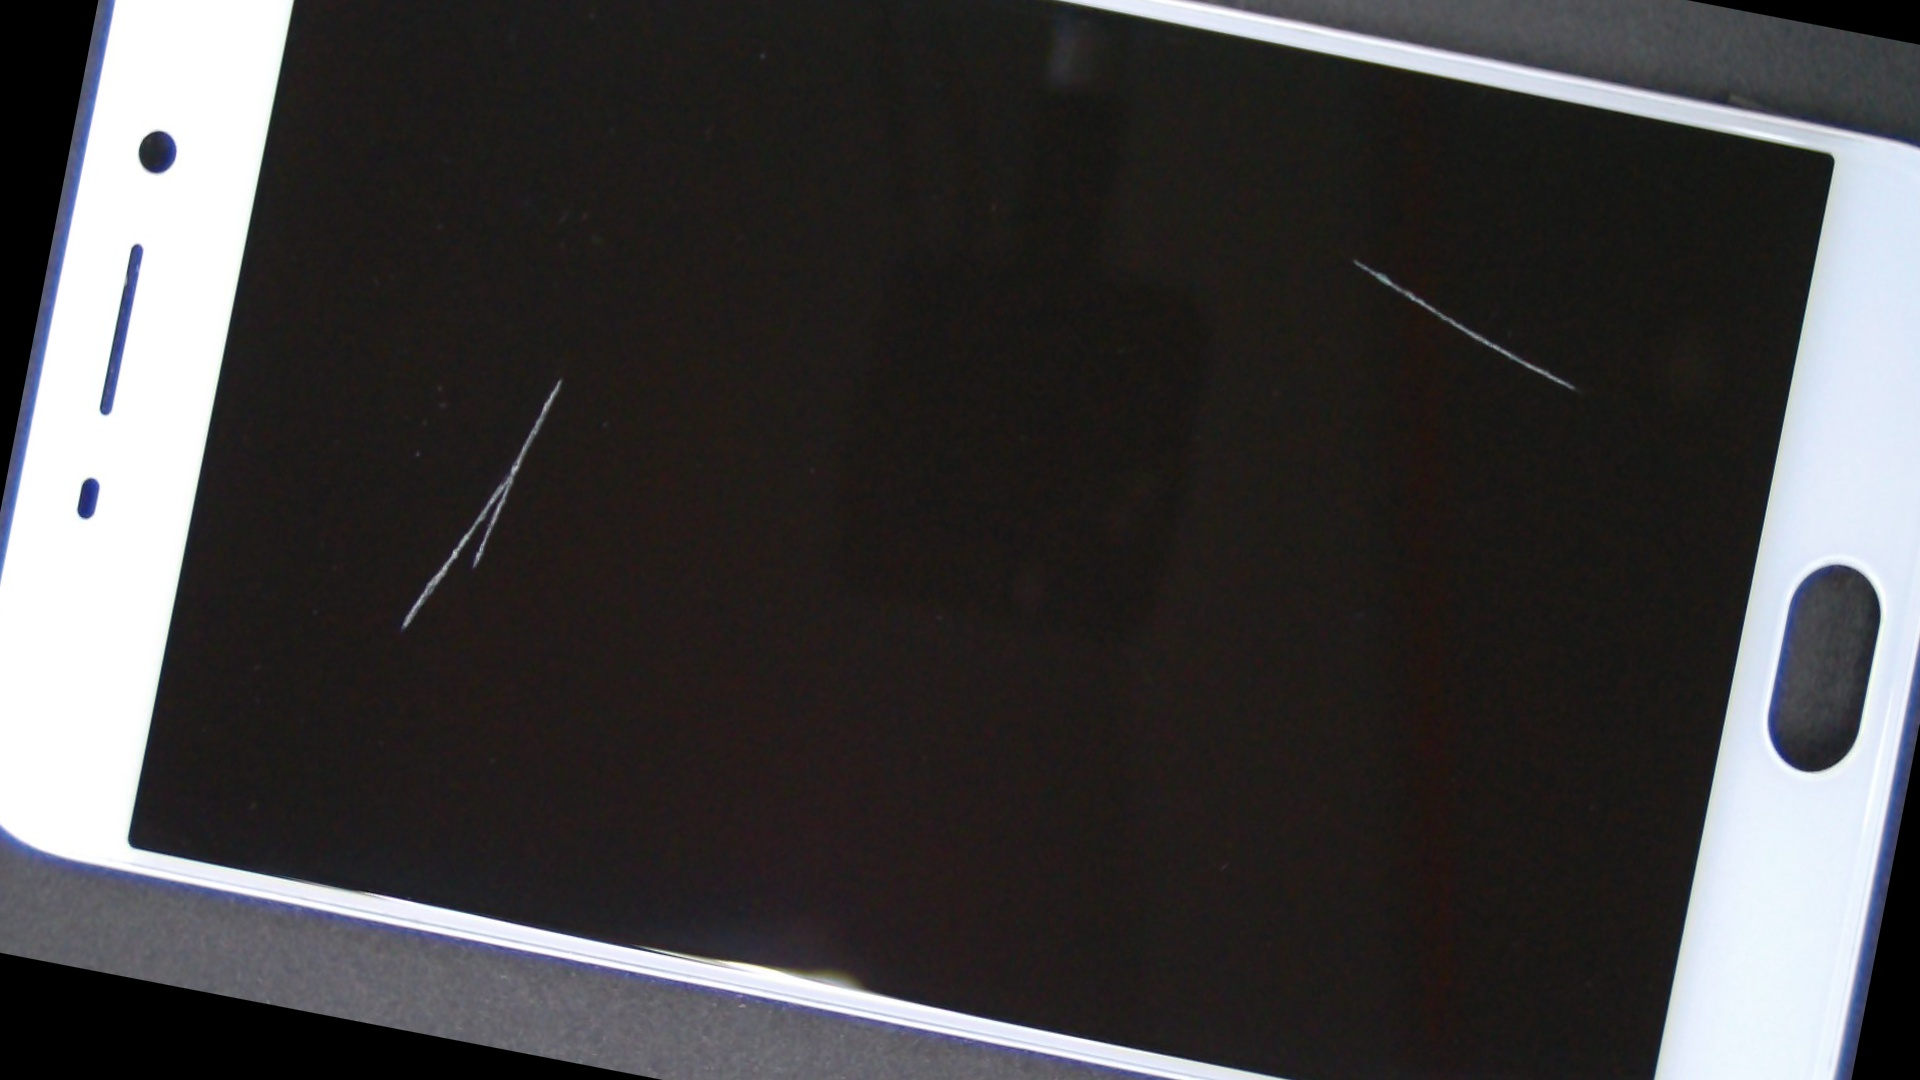oil: (694, 0, 1920, 535), (249, 41, 876, 713)
